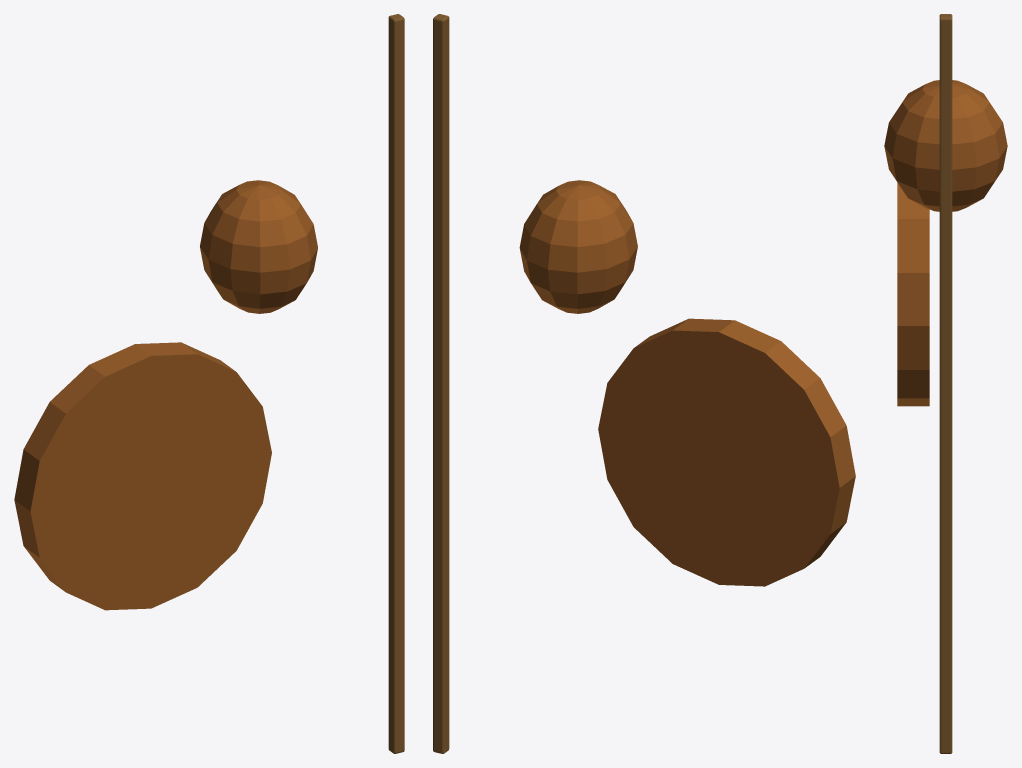
Rendered from hoplite_role_kit_LOD1.glb.
3 renders of one model, left to right at view 1: azimuth 30°, elevation 25°; view 2: azimuth 150°, elevation 25°; view 3: azimuth 270°, elevation 25°, orthographic.
Visible parts, largest first — view 1: LOD1_Aspis, LOD1_Dory, LOD1_Helmet; view 2: LOD1_Aspis, LOD1_Dory, LOD1_Helmet; view 3: LOD1_Helmet, LOD1_Dory, LOD1_Aspis.
Part boxes in pixels (x1,y1,x2,y2): LOD1_Aspis: (14,342,271,610); LOD1_Dory: (388,14,404,753); LOD1_Helmet: (200,180,317,313); LOD1_Aspis: (598,318,855,586); LOD1_Dory: (433,14,449,753); LOD1_Helmet: (519,180,637,313); LOD1_Helmet: (884,80,1007,211); LOD1_Dory: (939,14,952,753); LOD1_Aspis: (897,182,929,406).
Bounding box in the file's own units: 1.41 × 2.5 × 0.38.
